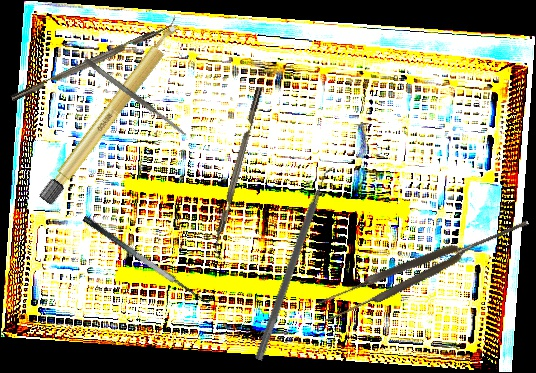Chopper: (6, 13, 181, 102), (207, 86, 272, 261)
Scalpel Handle: (37, 17, 186, 208)
Spatula Surgical: (254, 163, 338, 364), (81, 204, 216, 311), (82, 56, 189, 139)
Tissue Forceps: (315, 210, 535, 325)
